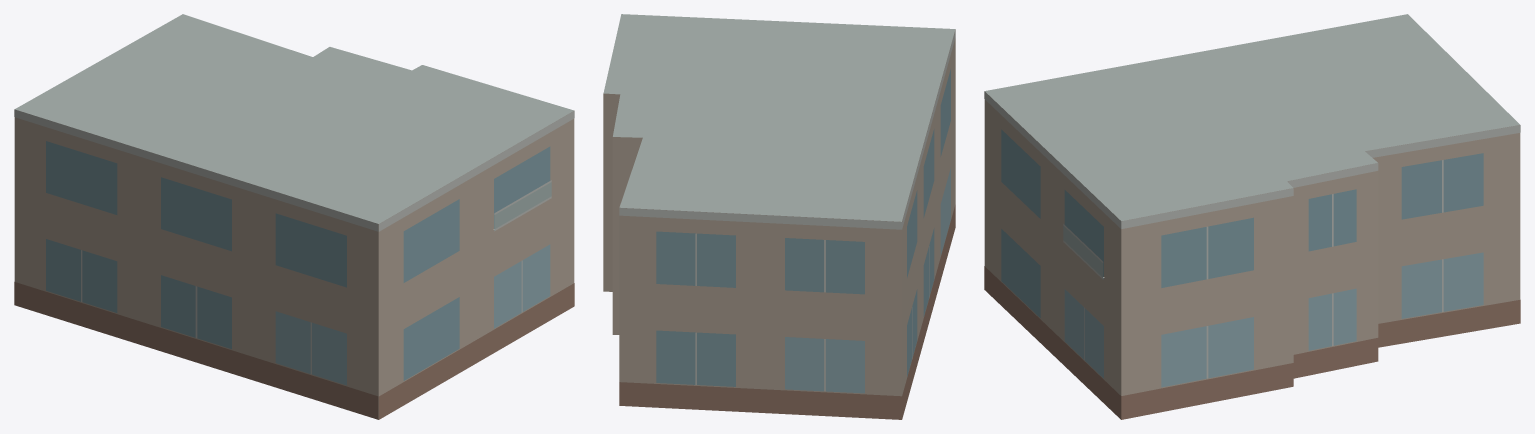
Rendered from survey-upis-32657601.glb.
The picture shows the model from 3 angles, left to right: view 1: azimuth 30°, elevation 25°; view 2: azimuth 150°, elevation 25°; view 3: azimuth 270°, elevation 25°; orthographic projection.
Visible parts, largest first — view 1: survey-upis-32657601.tmp; view 2: survey-upis-32657601.tmp; view 3: survey-upis-32657601.tmp.
Boxes of the visible parts, <box> form: survey-upis-32657601.tmp: <box>14,14,574,419</box>; survey-upis-32657601.tmp: <box>603,14,955,419</box>; survey-upis-32657601.tmp: <box>984,14,1520,419</box>.
Size of the model in its own units: 13.66 by 6.1 by 14.93.
